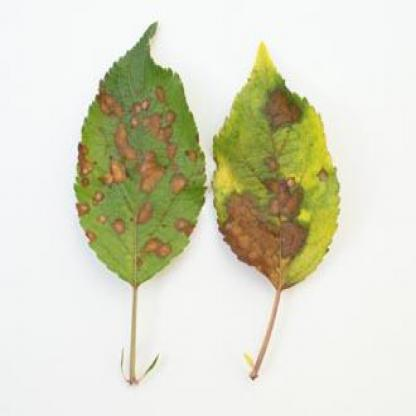apple scab leaf: (68, 17, 209, 306), (221, 20, 350, 304)
